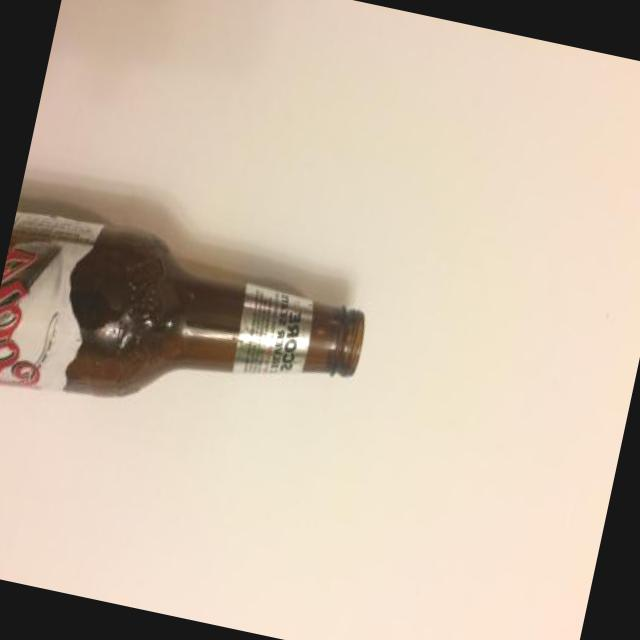chai_thuy_tinh: (63, 225, 363, 397)
giay: (0, 211, 103, 389)
